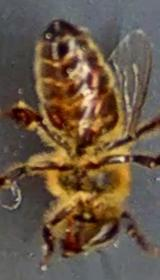varroa_mite: (37, 99, 68, 128), (84, 62, 110, 95)
